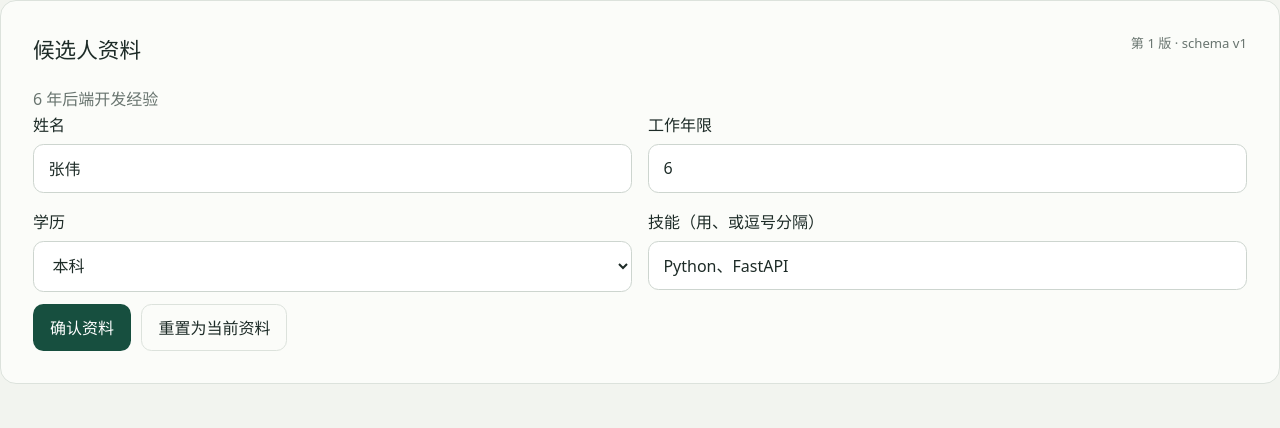
Test: ProfileForm › refuses a value the backend would reject anyway
Replace the text in the field labelled "工作年限" with "-3" at (948, 168), box [648,144,1247,193]
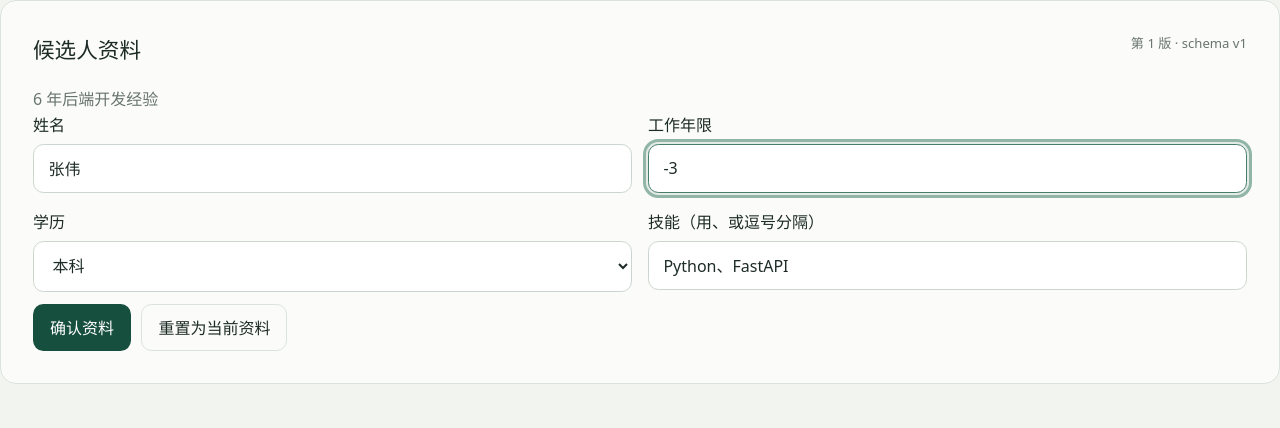
Click the button "确认资料".
click(82, 327)  # box [33,304,131,351]
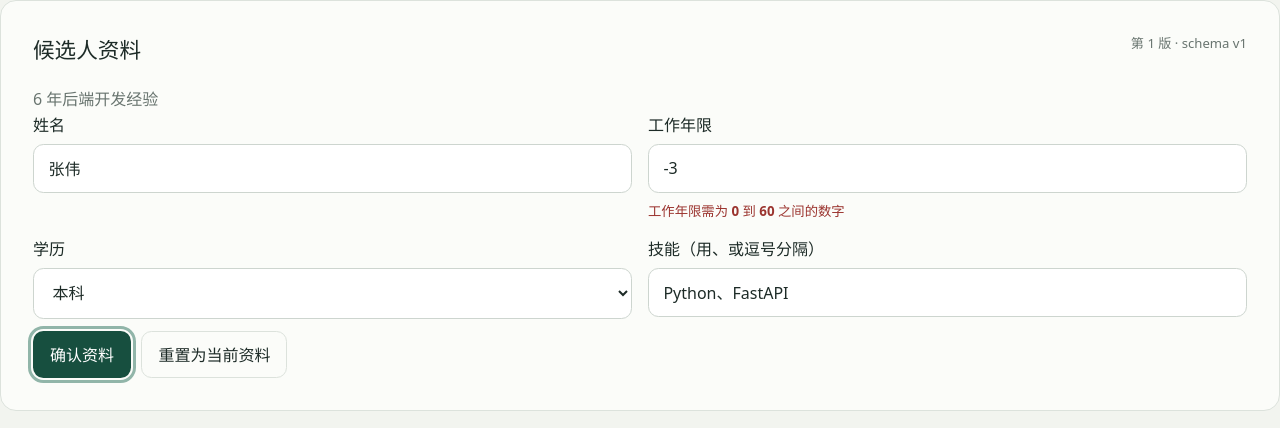
Check: the message reads "工作年限需为 0 到 60 之间的数字", box [648,202,845,220]
